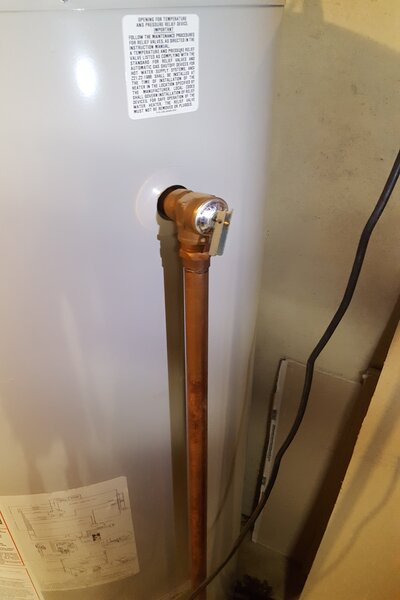valve: (154, 183, 233, 273)
